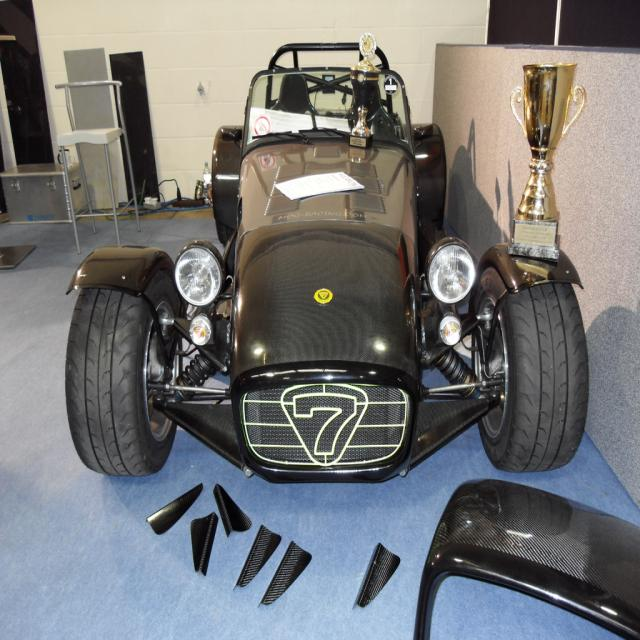car: (54, 48, 604, 524)
